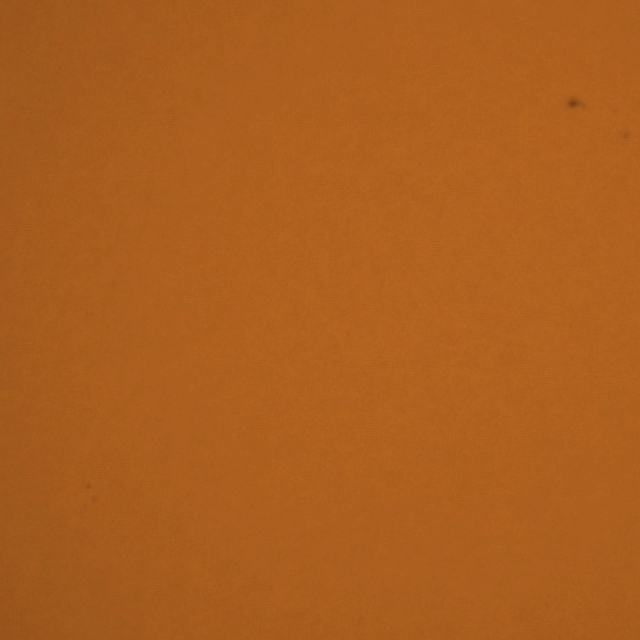sunspot: (565, 96, 585, 111)
